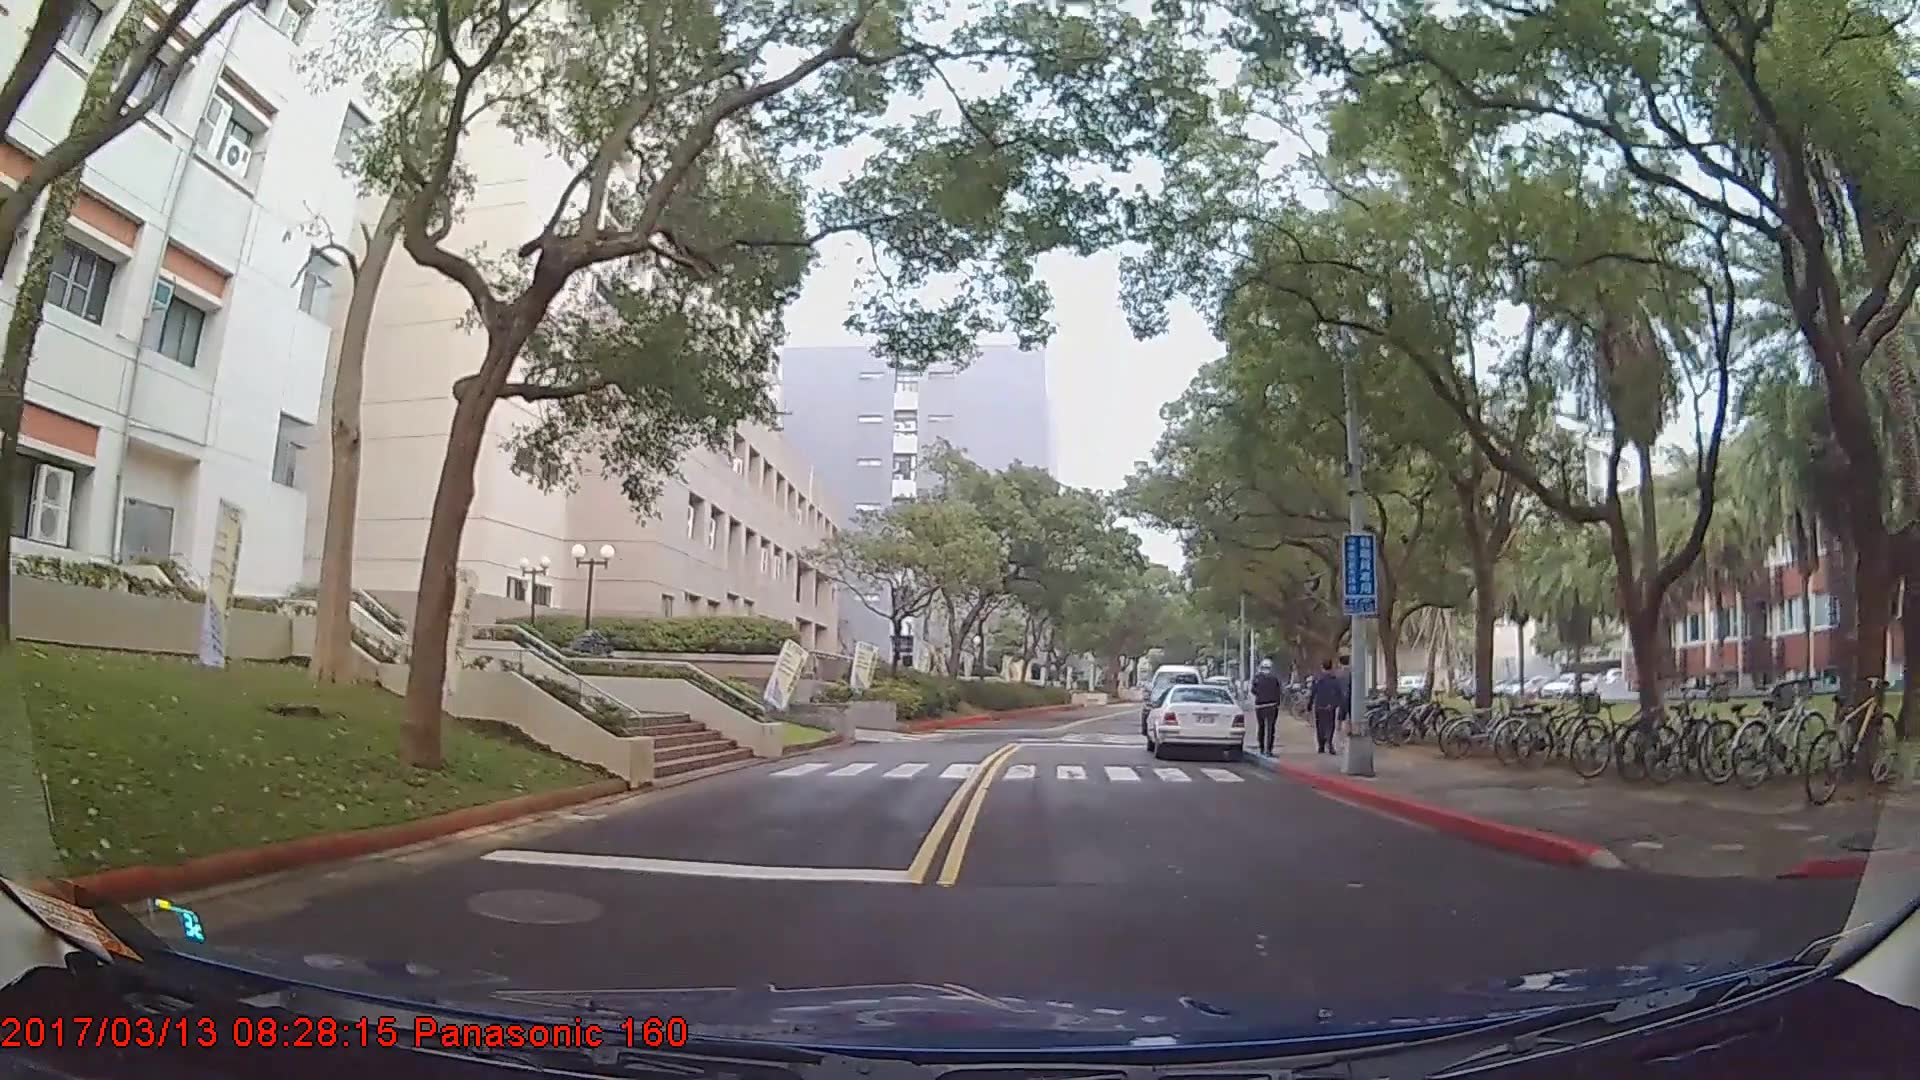pedestrian: (1311, 658, 1349, 757), (1252, 662, 1282, 761)
vehicle: (1140, 682, 1247, 761)
